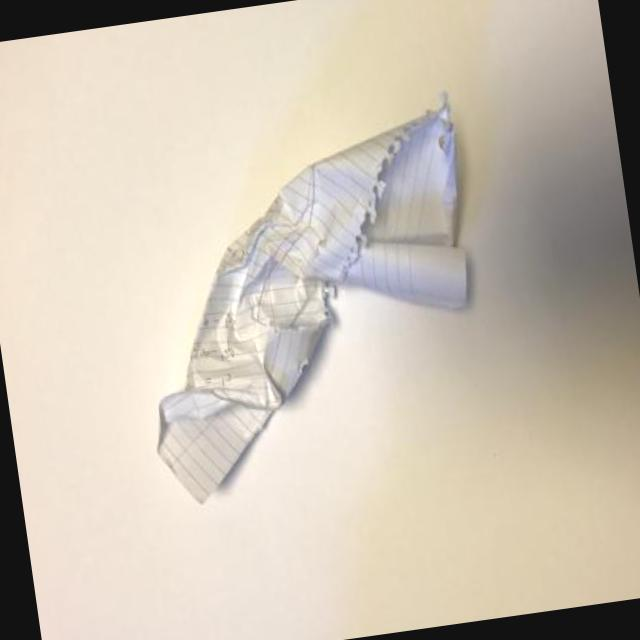giay: (156, 90, 475, 502)
